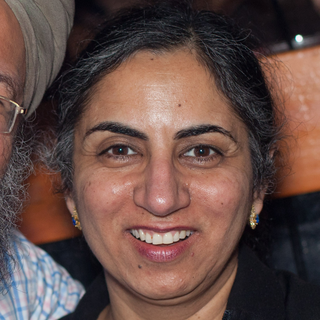eye: (177, 140, 228, 165), (94, 140, 143, 164)
